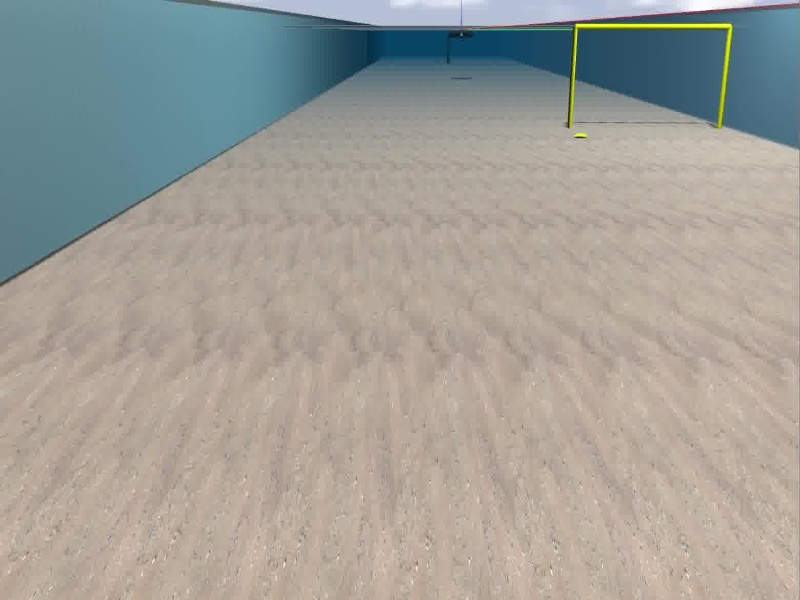gate: (568, 23, 733, 132)
